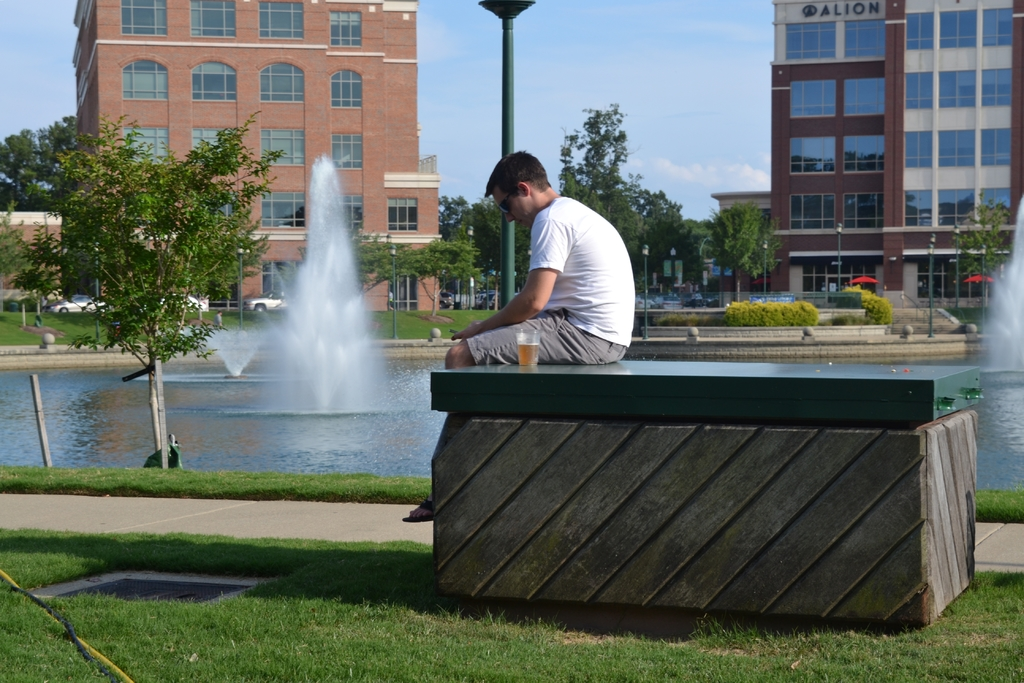Tree: (14, 110, 277, 456), (435, 101, 781, 311), (288, 225, 398, 320), (0, 110, 83, 209), (948, 199, 1011, 304), (405, 238, 485, 317), (0, 206, 46, 329)
